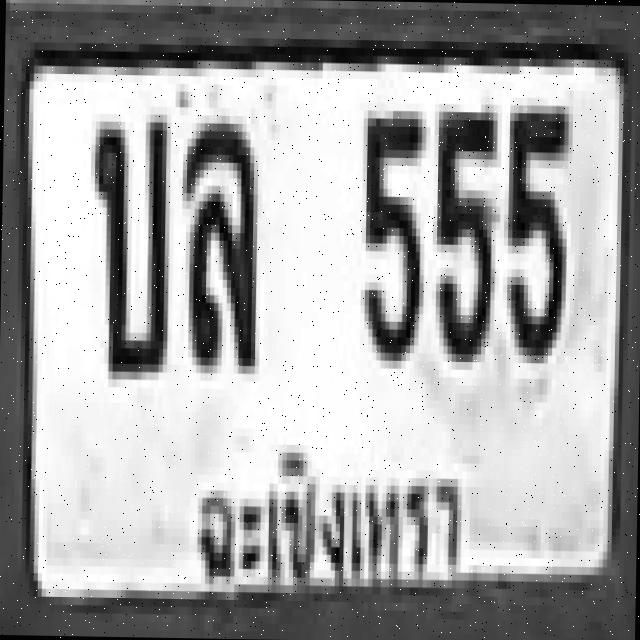35BorBaiMai: (87, 105, 167, 372)
45LorLing: (182, 114, 256, 366)
5: (355, 102, 422, 360), (501, 97, 564, 355), (430, 103, 493, 354)
Chachoengsao: (186, 438, 474, 592)
